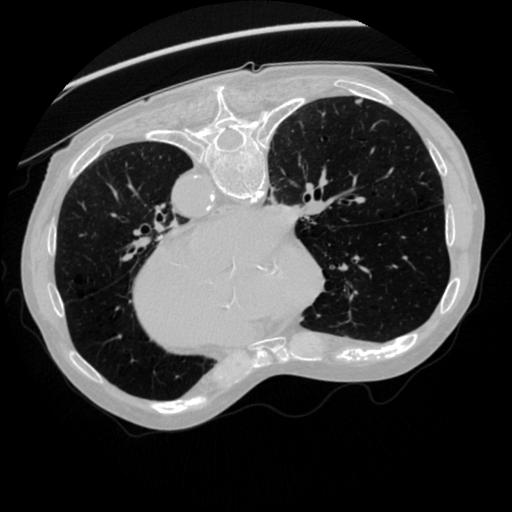nodule: (354, 97, 366, 109)
